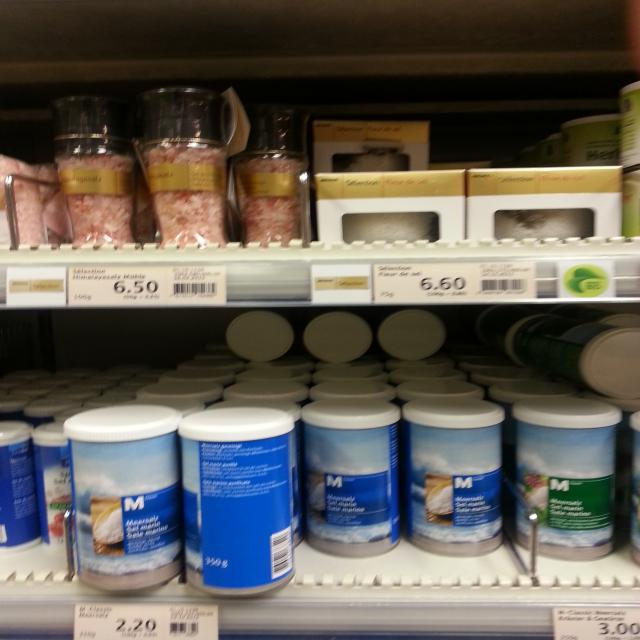Spices: (170, 409, 304, 594), (62, 404, 182, 595), (506, 399, 624, 570), (302, 396, 418, 561), (135, 87, 237, 251), (404, 400, 504, 552), (56, 92, 138, 245), (472, 167, 627, 245), (238, 102, 320, 246), (313, 173, 462, 251)
